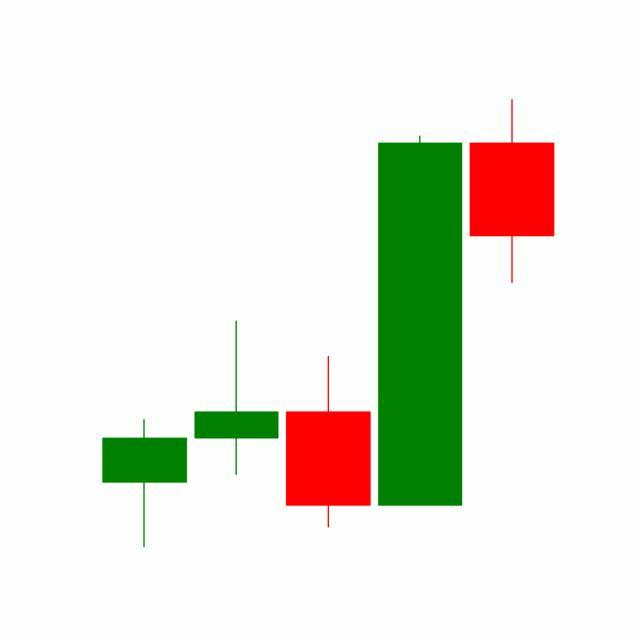Marubozu: (374, 132, 468, 510)
